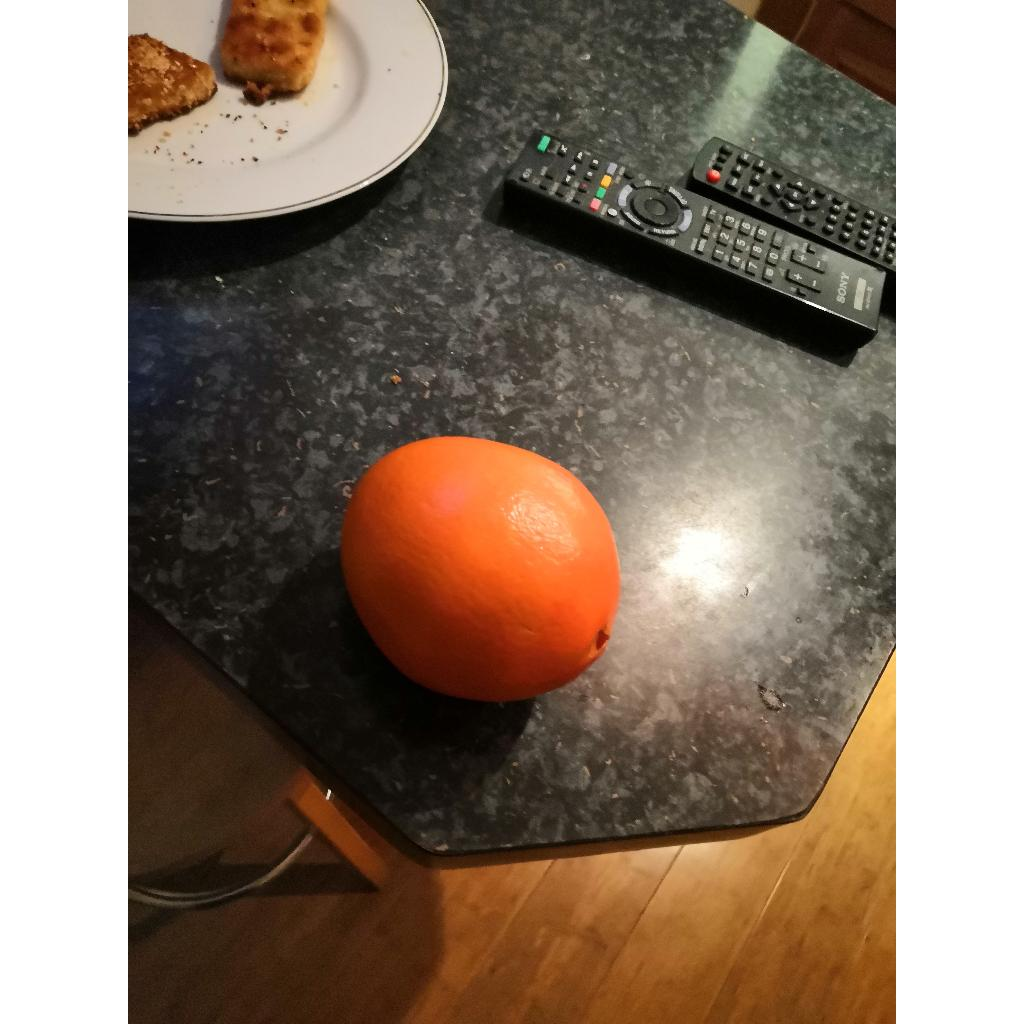orange: (342, 436, 620, 702)
